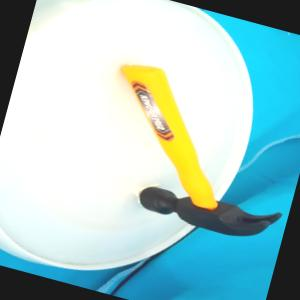martelo: (83, 57, 300, 247)
